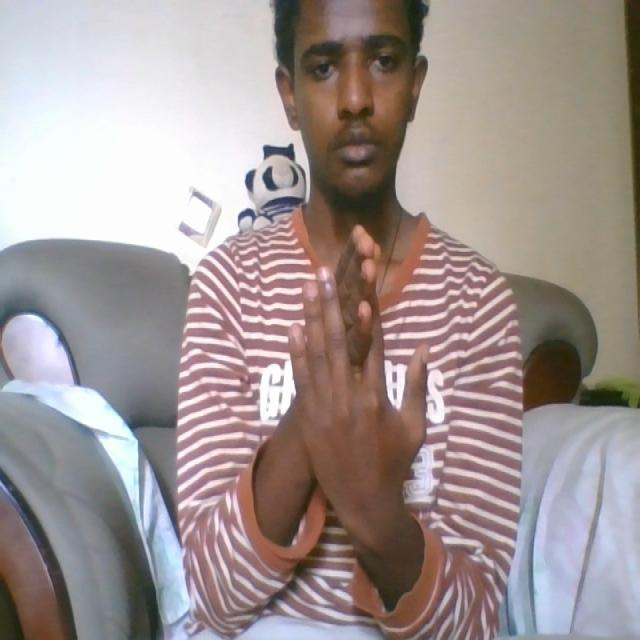bekul: (284, 221, 437, 535)
